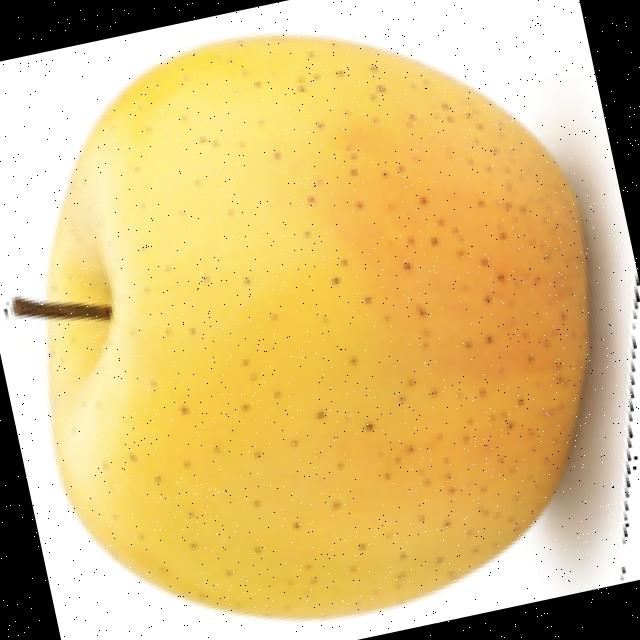apple: (0, 28, 640, 623)
